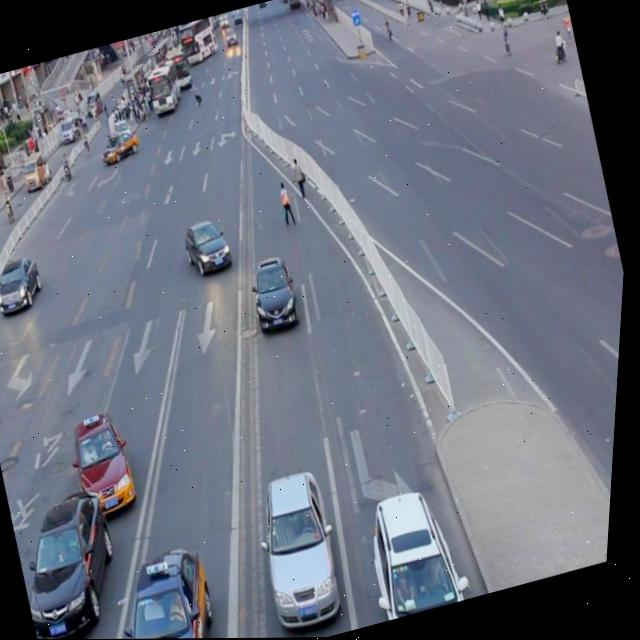car: (8, 480, 141, 640), (244, 462, 362, 633), (358, 478, 478, 622), (106, 536, 238, 639), (67, 406, 151, 521), (245, 250, 309, 335), (179, 213, 240, 280), (0, 252, 53, 317)
